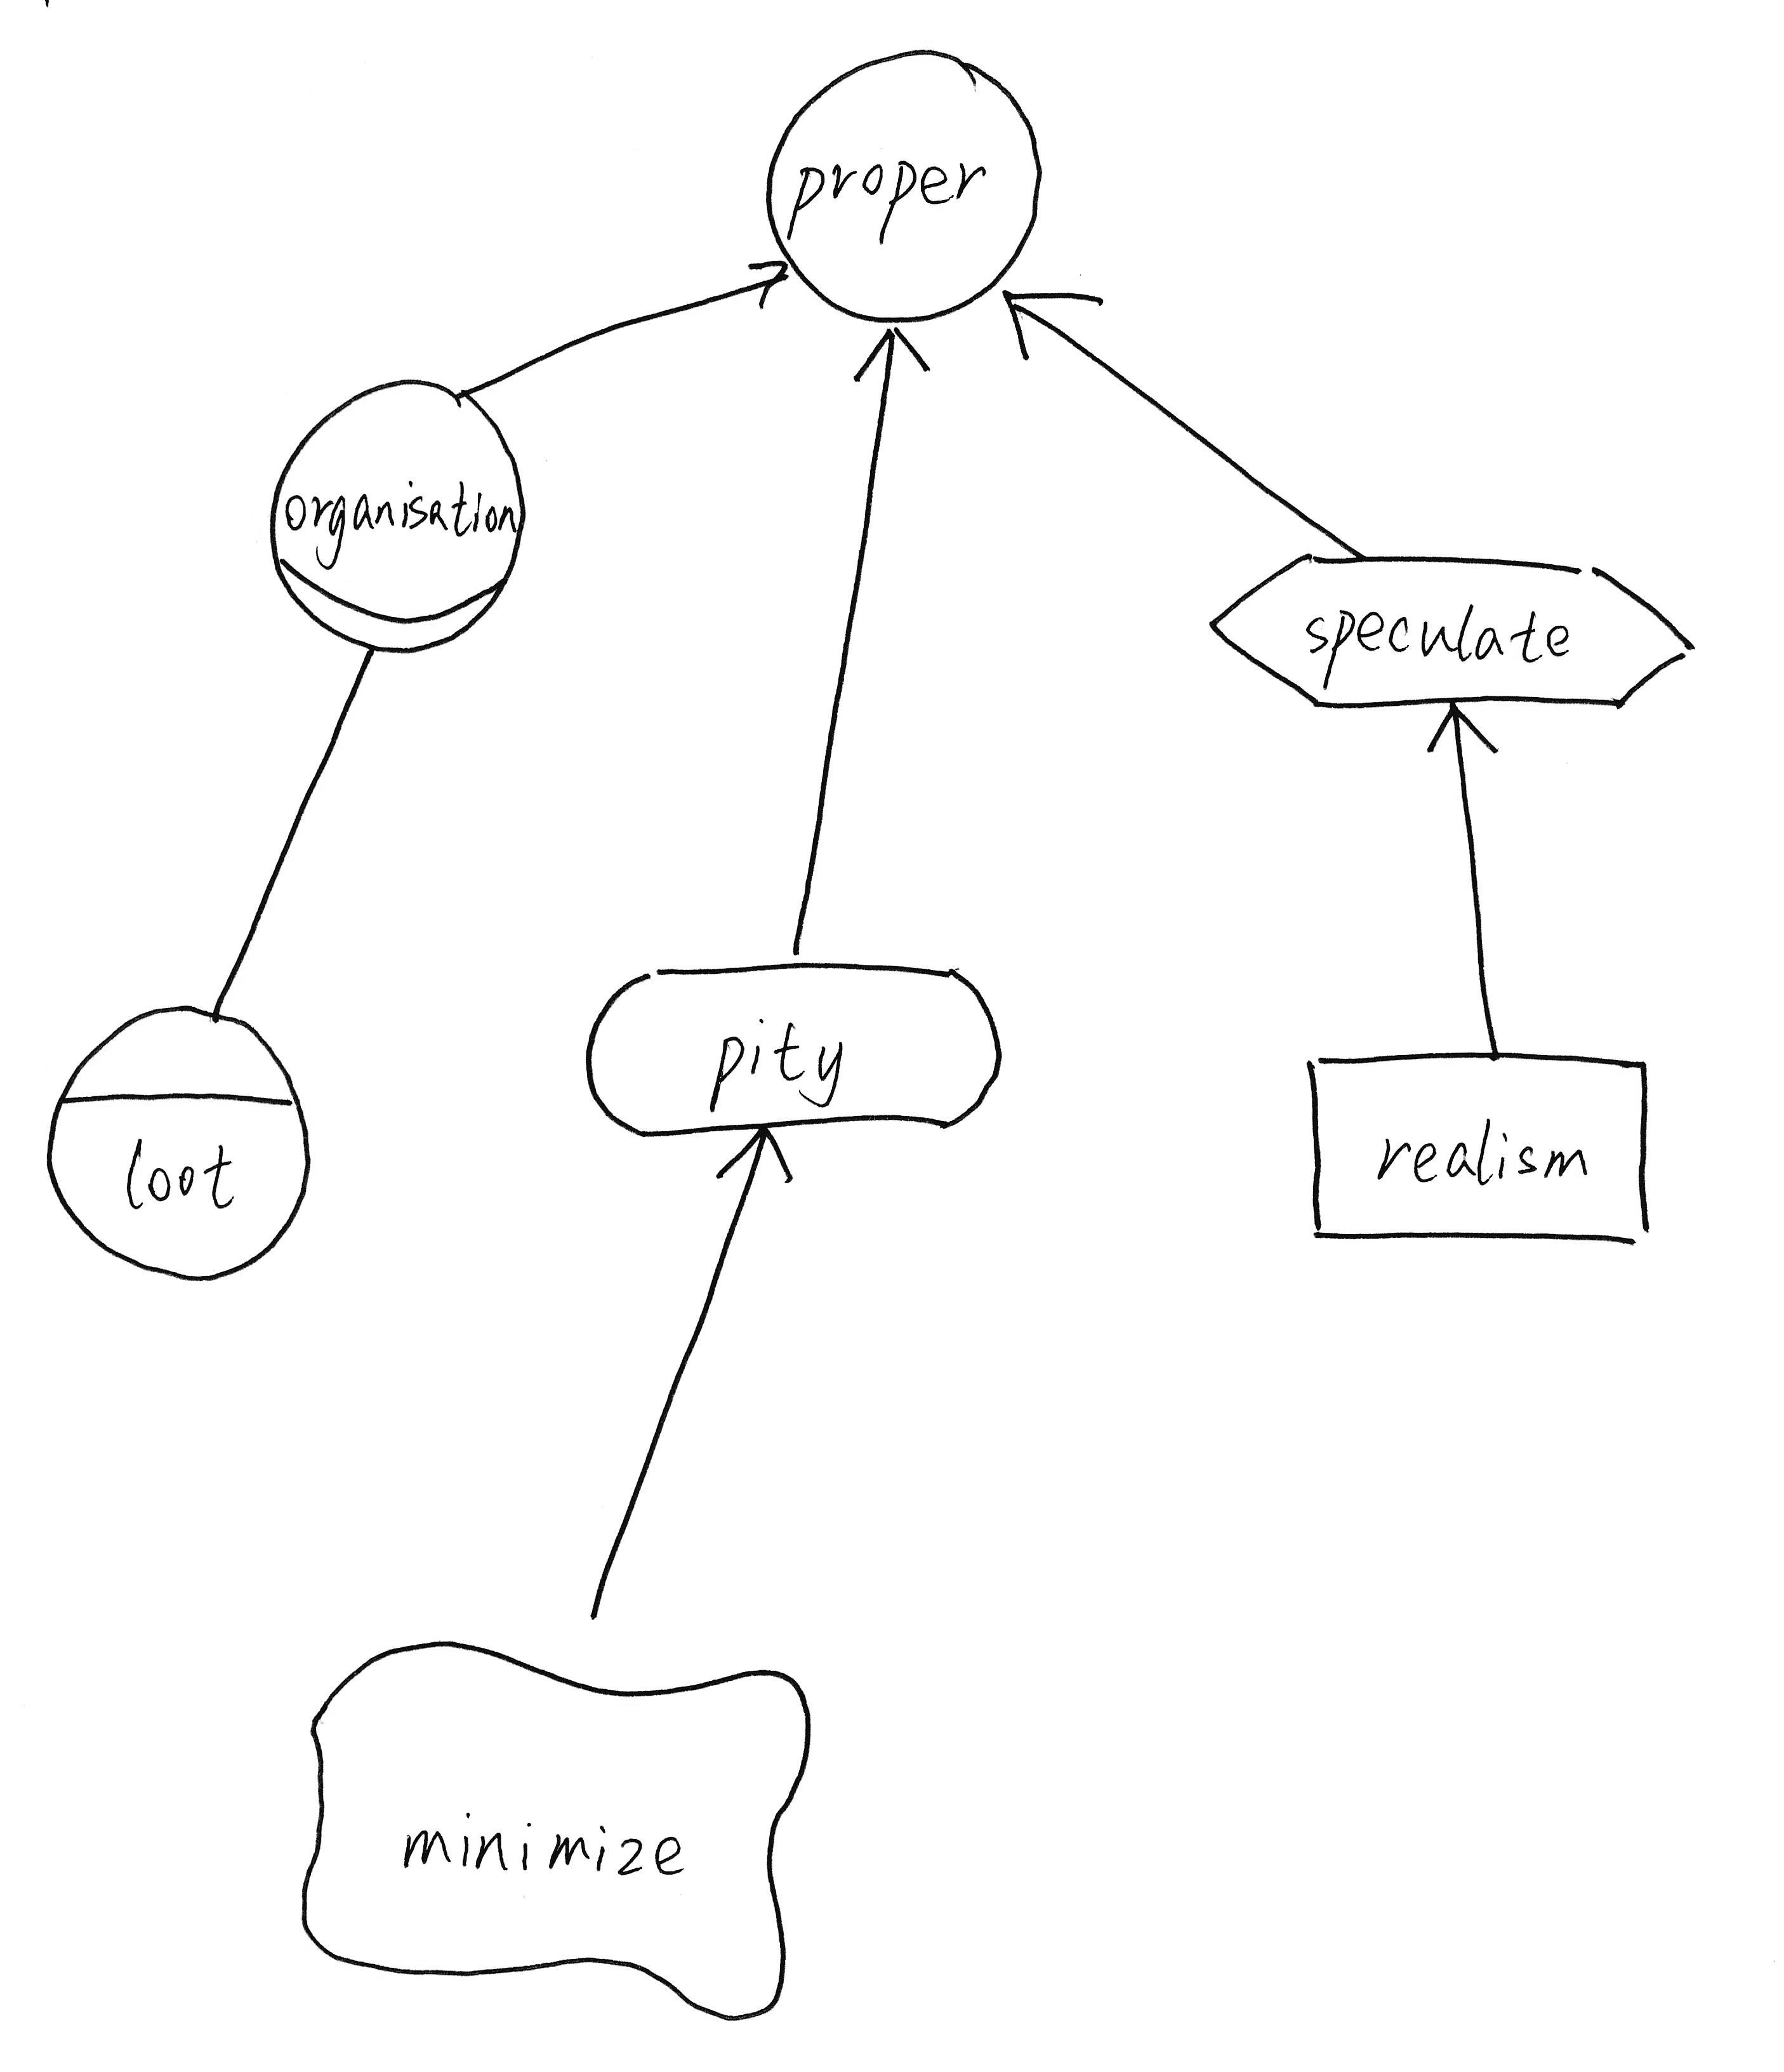actor: (743, 33, 1058, 335)
agent: (23, 990, 335, 1295)
arrow: (988, 271, 1106, 370), (844, 314, 946, 403), (1409, 689, 1516, 770), (710, 1114, 805, 1203), (733, 250, 801, 314)
goal: (569, 943, 1027, 1163)
quality: (276, 1616, 842, 2035)
resource: (1284, 1031, 1685, 1265)
role: (252, 358, 542, 664)
task: (1191, 537, 1717, 728)
